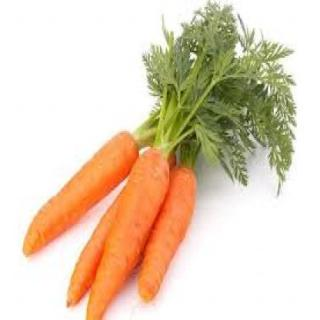Wortel: (22, 131, 139, 257), (86, 147, 170, 320)
